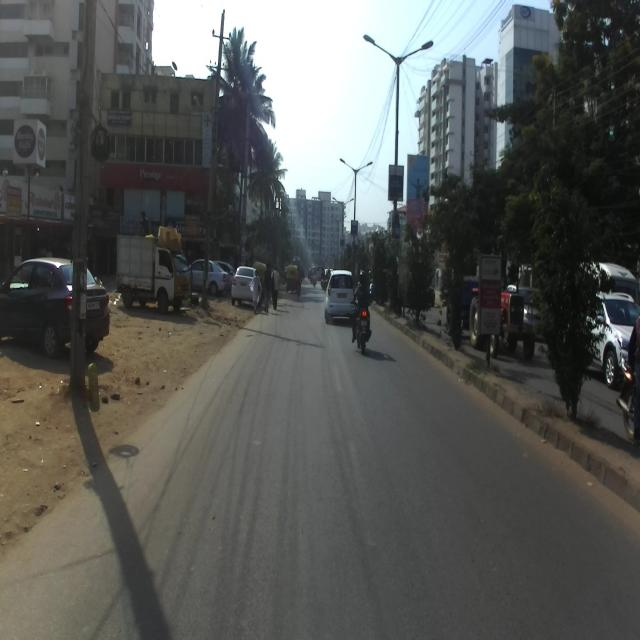car: (0, 256, 110, 356), (580, 289, 638, 390), (321, 269, 357, 324)
motorcycle: (349, 292, 372, 356)
truck: (112, 224, 191, 316)
